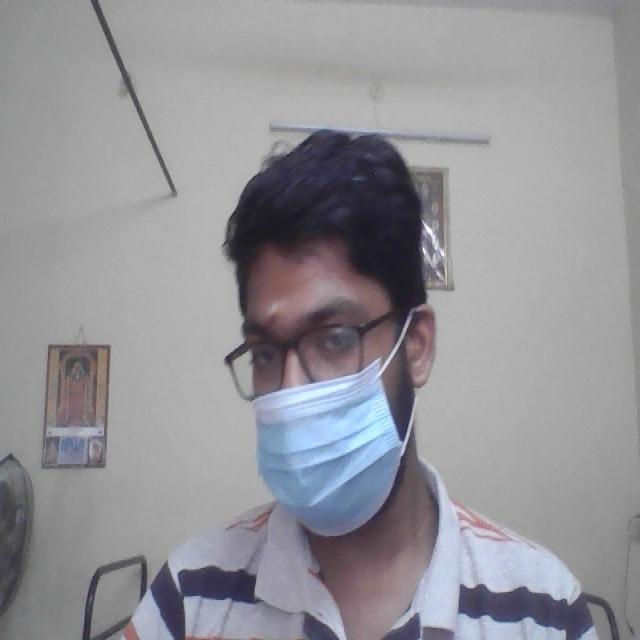Focused: (224, 276, 384, 473)
